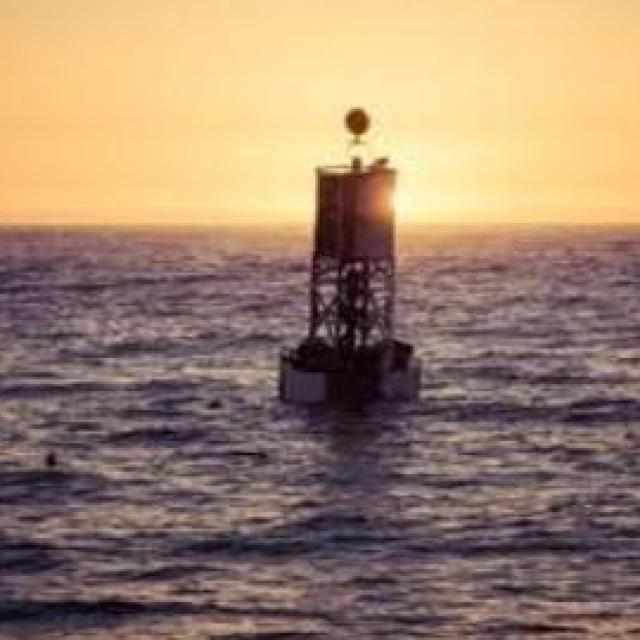buoy: (275, 105, 428, 402)
